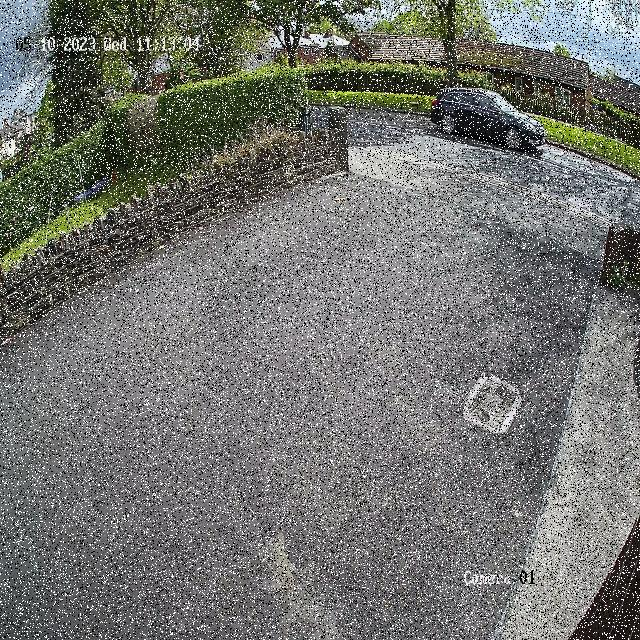vehicle: (422, 76, 556, 158)
